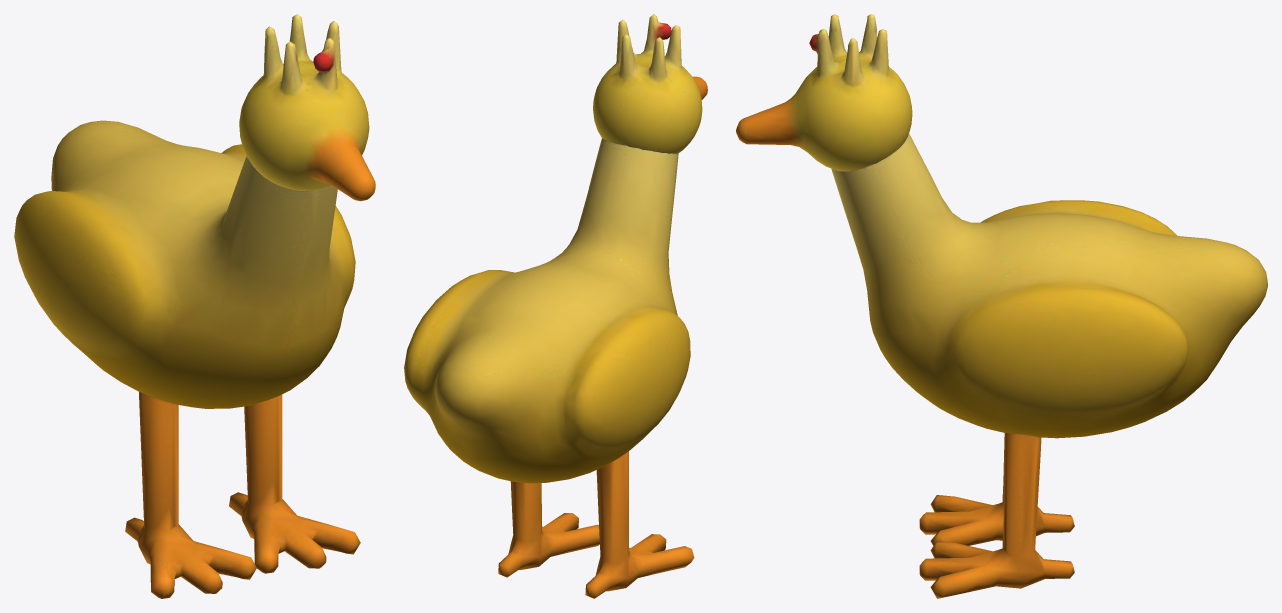
File: animal_golden_goose.glb
The picture shows the model from 3 angles, left to right: view 1: azimuth 30°, elevation 25°; view 2: azimuth 150°, elevation 25°; view 3: azimuth 270°, elevation 25°; orthographic projection. The views are drawn at different scales.
Visible parts, largest first — view 1: animal_golden_goose, head, leg0, leg1; view 2: animal_golden_goose, head, leg0, leg1; view 3: animal_golden_goose, head, leg1, leg0.
Part boxes in pixels (left/top/right/bottom): animal_golden_goose: left=14, top=120, right=355, bottom=408; head: left=239, top=14, right=375, bottom=201; leg0: left=125, top=392, right=256, bottom=598; leg1: left=229, top=394, right=360, bottom=573; animal_golden_goose: left=404, top=138, right=690, bottom=483; head: left=593, top=14, right=707, bottom=153; leg0: left=585, top=451, right=694, bottom=598; leg1: left=498, top=481, right=599, bottom=577; animal_golden_goose: left=831, top=133, right=1267, bottom=438; head: left=736, top=14, right=912, bottom=171; leg1: left=919, top=433, right=1074, bottom=598; leg0: left=919, top=433, right=1074, bottom=545.
Size of the model in its own units: 0.1771 by 0.381 by 0.3408.
1 material, 1 textured.
